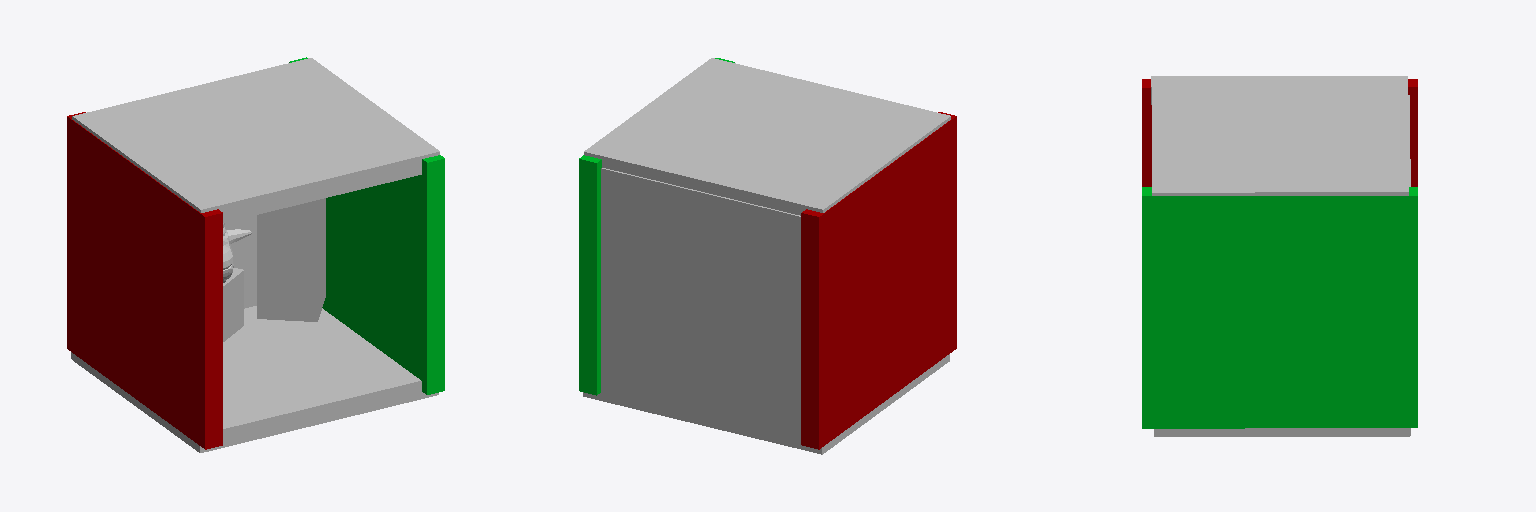
3 views of the same model, side by side, from view 1: azimuth 30°, elevation 25°; view 2: azimuth 150°, elevation 25°; view 3: azimuth 270°, elevation 25° (orthographic).
Parts seen in each view (by area): view 1: mocheng.001_mocheng.018, mocheng_mocheng.017, mocheng.003_mocheng.020, body2_body2; view 2: mocheng.001_mocheng.018, mocheng_mocheng.017, mocheng.003_mocheng.020; view 3: mocheng.003_mocheng.020, mocheng.001_mocheng.018, mocheng_mocheng.017.
Part boxes in pixels (x1,y1,x2,y2): mocheng.001_mocheng.018: (71, 58, 439, 452); mocheng_mocheng.017: (67, 112, 222, 449); mocheng.003_mocheng.020: (289, 57, 444, 394); body2_body2: (223, 223, 251, 282); mocheng.001_mocheng.018: (583, 58, 950, 454); mocheng_mocheng.017: (801, 112, 956, 449); mocheng.003_mocheng.020: (579, 58, 734, 395); mocheng.003_mocheng.020: (1142, 187, 1417, 428); mocheng.001_mocheng.018: (1151, 76, 1410, 436); mocheng_mocheng.017: (1142, 79, 1417, 186).
Size of the model in its own units: 9.02 by 8.75 by 8.99.